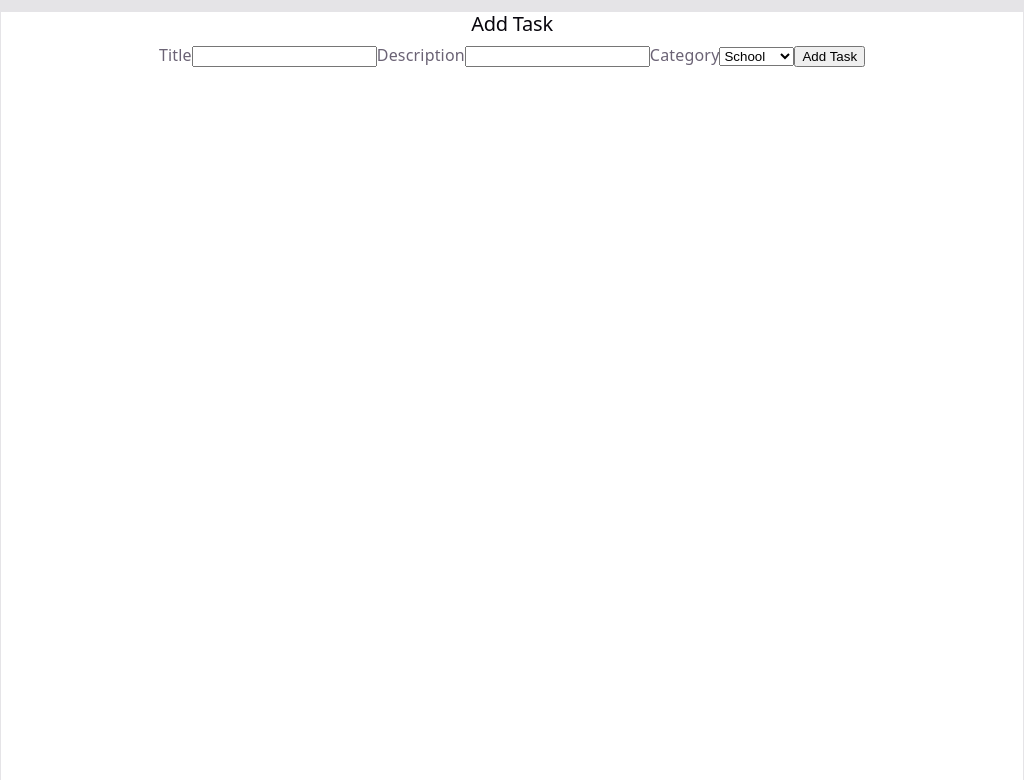
TaskForm facade integration › clears the error after a later successful submit
Type "Retry" into the field labelled "Title" at (284, 56), box [192, 46, 377, 67]
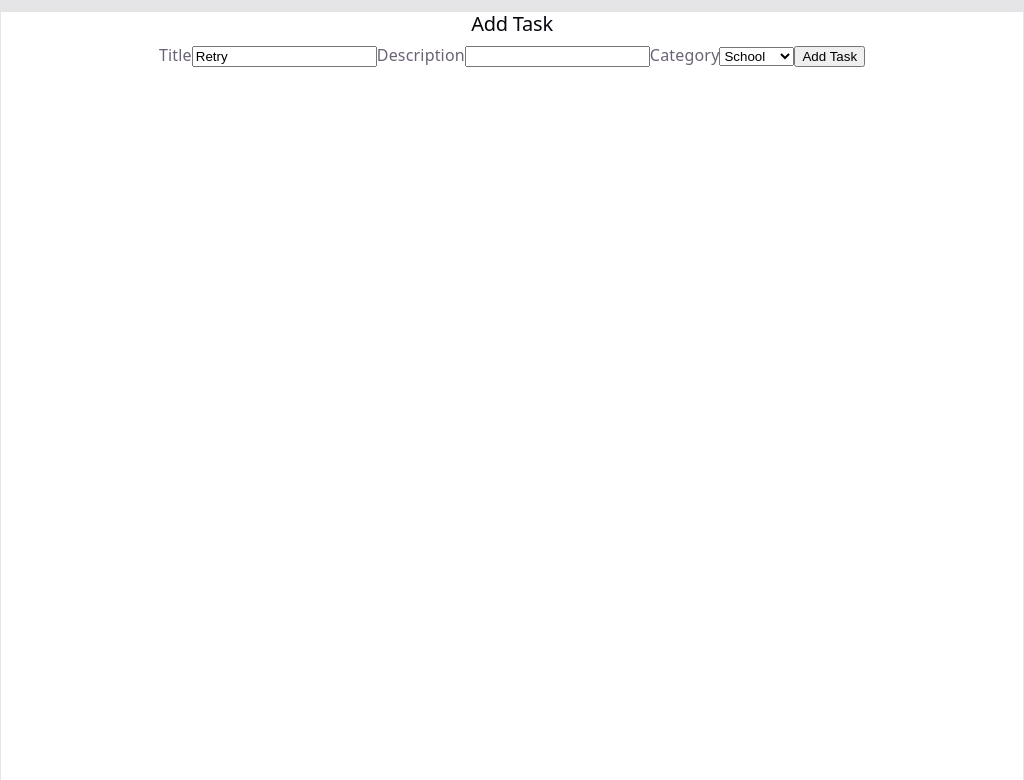
Click the button "Add Task" at (830, 56), box [794, 46, 865, 67]
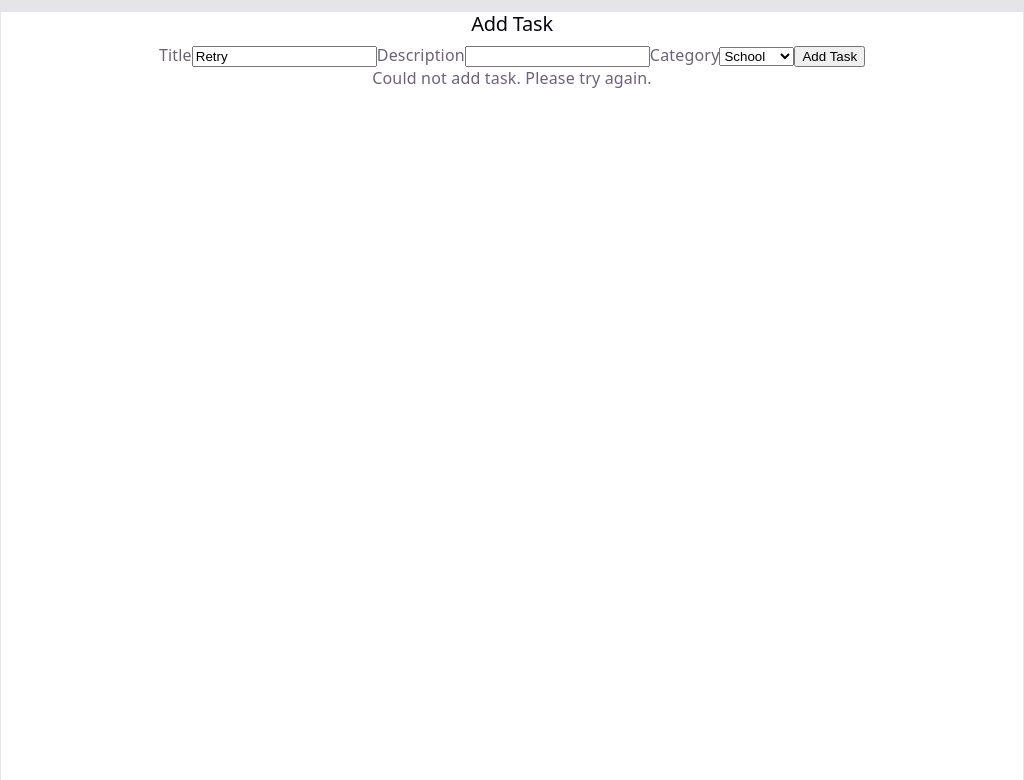
Result: the message "Could not add task. Please try again." is shown at [372, 67, 652, 89]
Click the button "Add Task" at (830, 56), box [794, 46, 865, 67]
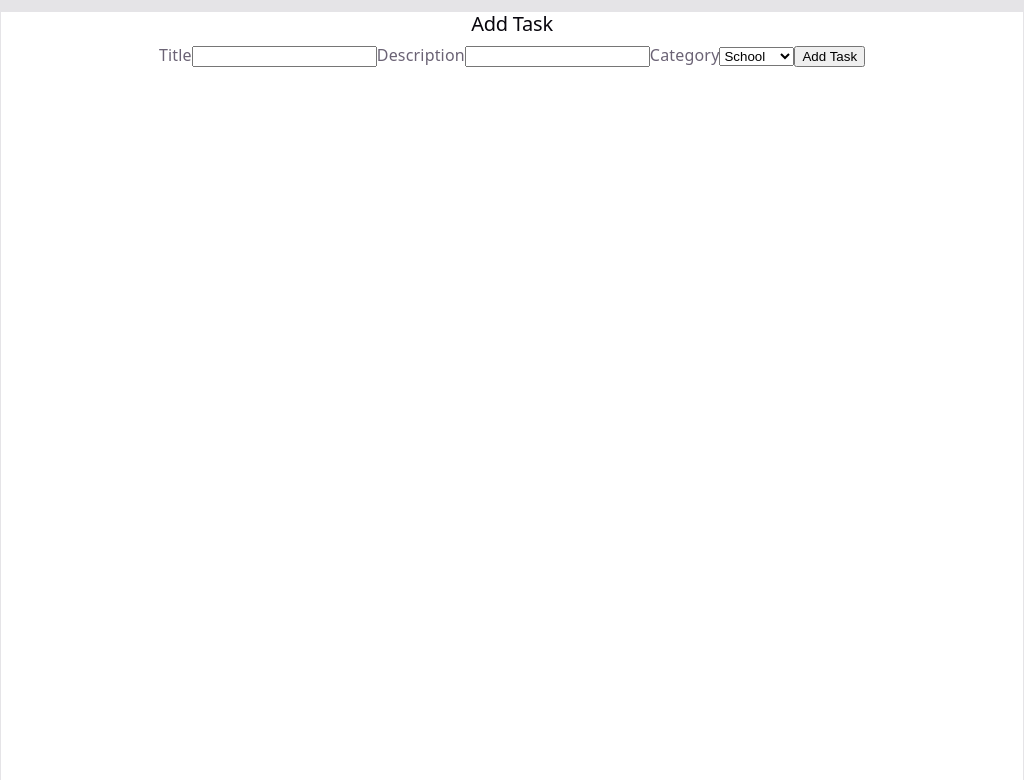
Result: the message "Could not add task. Please try again." is gone
